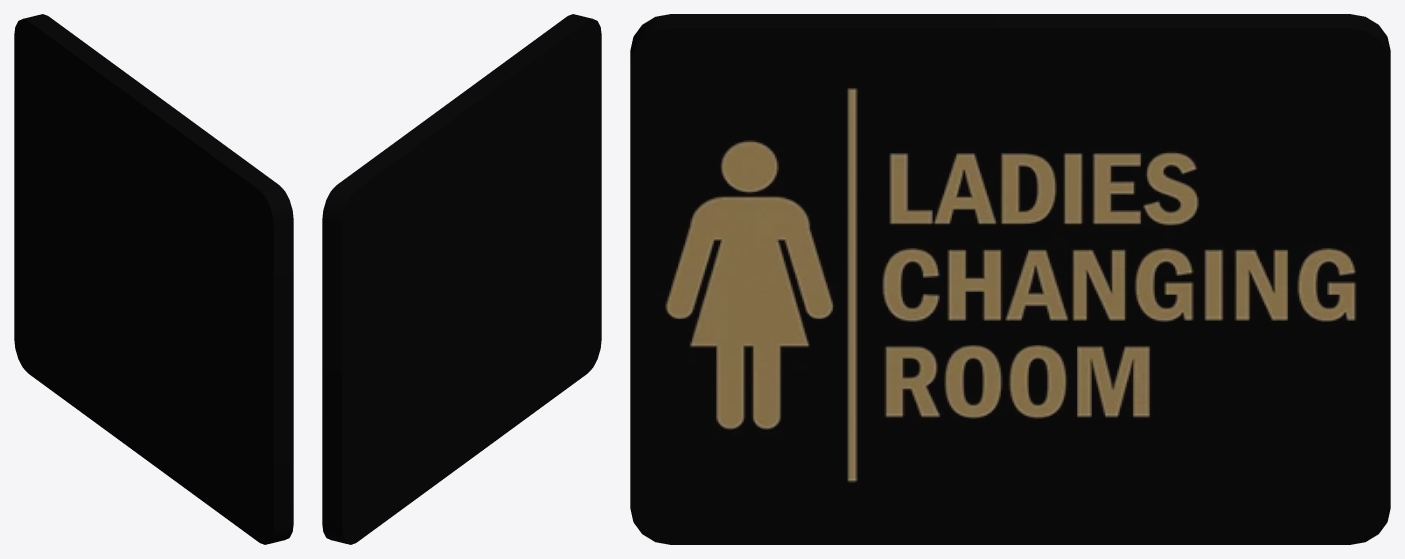
File: WomanSigns.fbx
3 renders of one model, left to right at view 1: azimuth 30°, elevation 25°; view 2: azimuth 150°, elevation 25°; view 3: azimuth 270°, elevation 25°, orthographic. The views are drawn at different scales.
Visible parts, largest first — view 1: Woman; view 2: Woman; view 3: Woman.
Boxes of the visible parts, left/top/right/bottom form: Woman: left=14, top=14, right=293, bottom=544; Woman: left=322, top=14, right=601, bottom=544; Woman: left=630, top=14, right=1390, bottom=544.
Size of the model in its own units: 0.0987 by 1.65 by 2.2.
